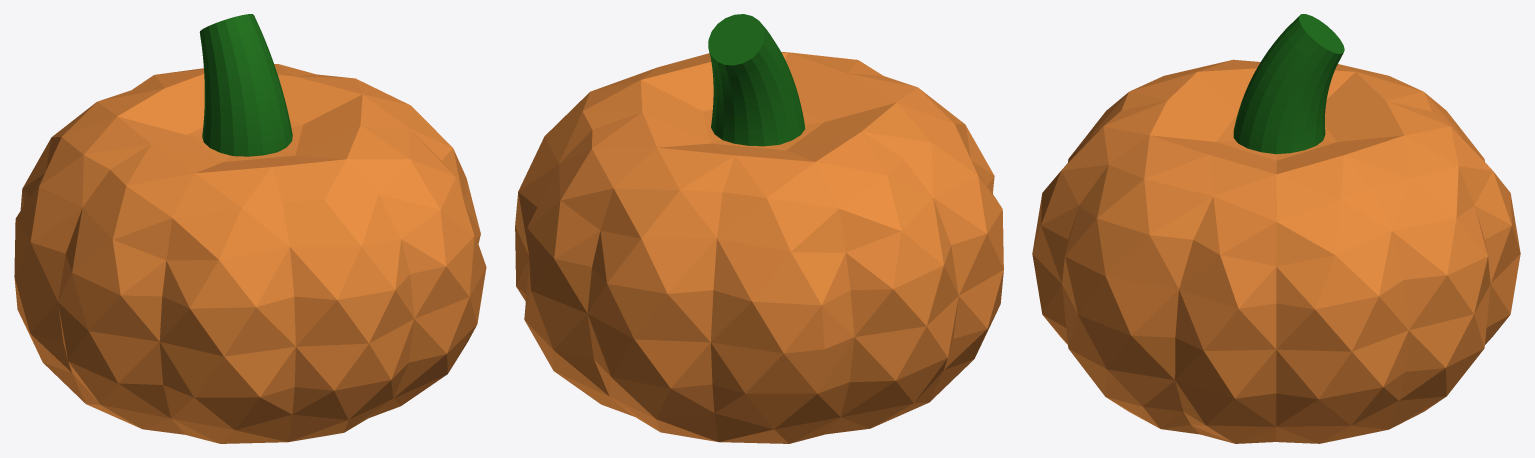
File: Pumpkin_v.1.0.fbx
3 renders of one model, left to right at view 1: azimuth 30°, elevation 25°; view 2: azimuth 150°, elevation 25°; view 3: azimuth 270°, elevation 25°, orthographic. The views are drawn at different scales.
Parts seen in each view (by area): view 1: Cylinder; view 2: Cylinder; view 3: Cylinder.
Boxes of the visible parts, x1,y1,x2,y2 form: Cylinder: (14,14,486,443); Cylinder: (515,14,1003,443); Cylinder: (1032,14,1520,443).
Size of the model in its own units: 288 by 245 by 300.
